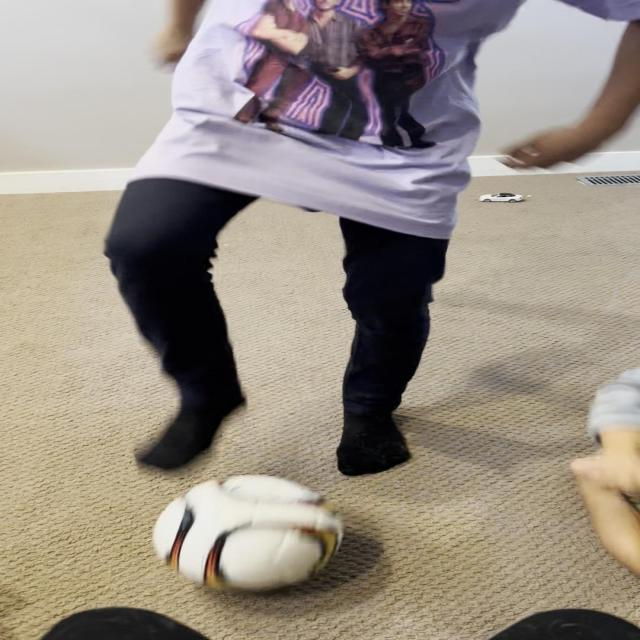Soccer Ball: (153, 474, 345, 591)
